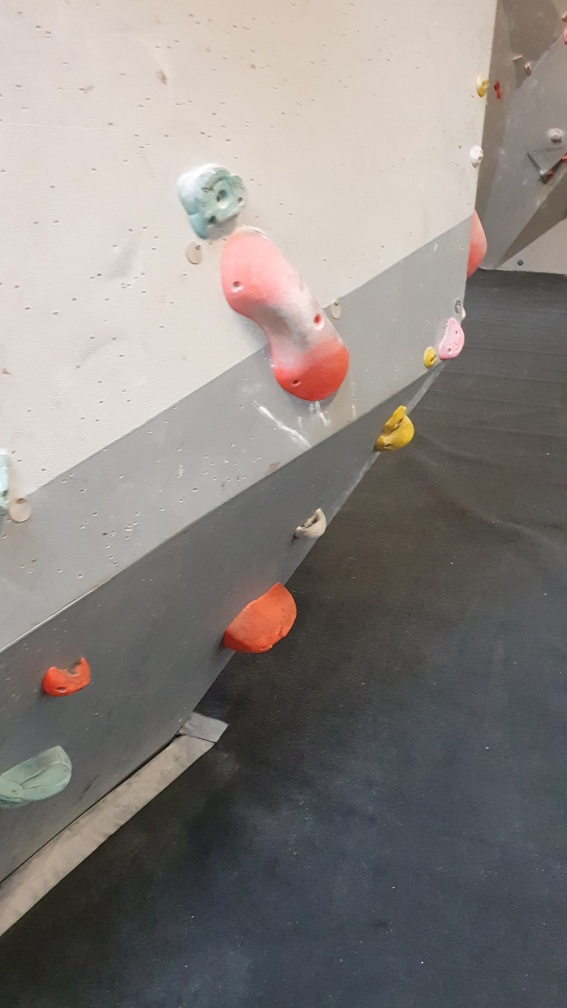Hand Start: (8, 495, 35, 525), (183, 241, 203, 267), (333, 299, 343, 319)
Jug: (294, 508, 333, 542)
Pinch: (221, 227, 352, 402)
